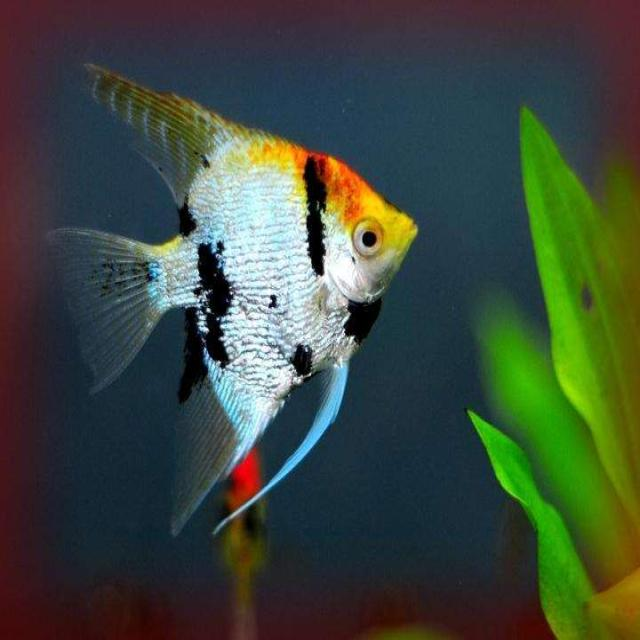AngelFish: (52, 54, 418, 537)
